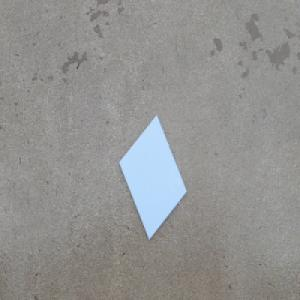PaintChip: (118, 113, 187, 242)
